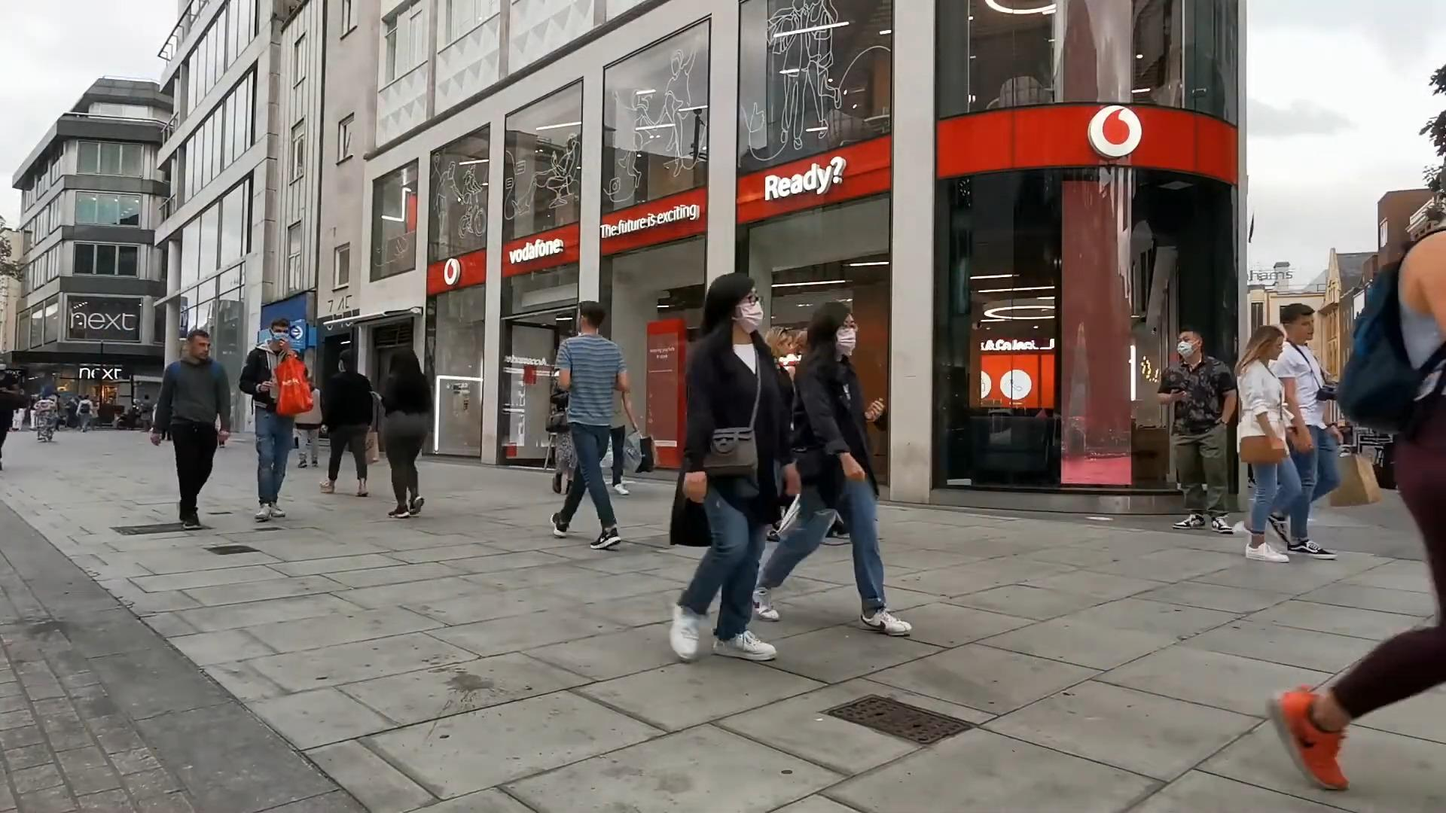no-helmet: (701, 272, 765, 336), (806, 300, 859, 359), (1243, 325, 1285, 361), (1280, 303, 1316, 341), (389, 346, 423, 380), (577, 300, 606, 333), (1176, 325, 1203, 360), (186, 329, 211, 361), (269, 317, 290, 343)
